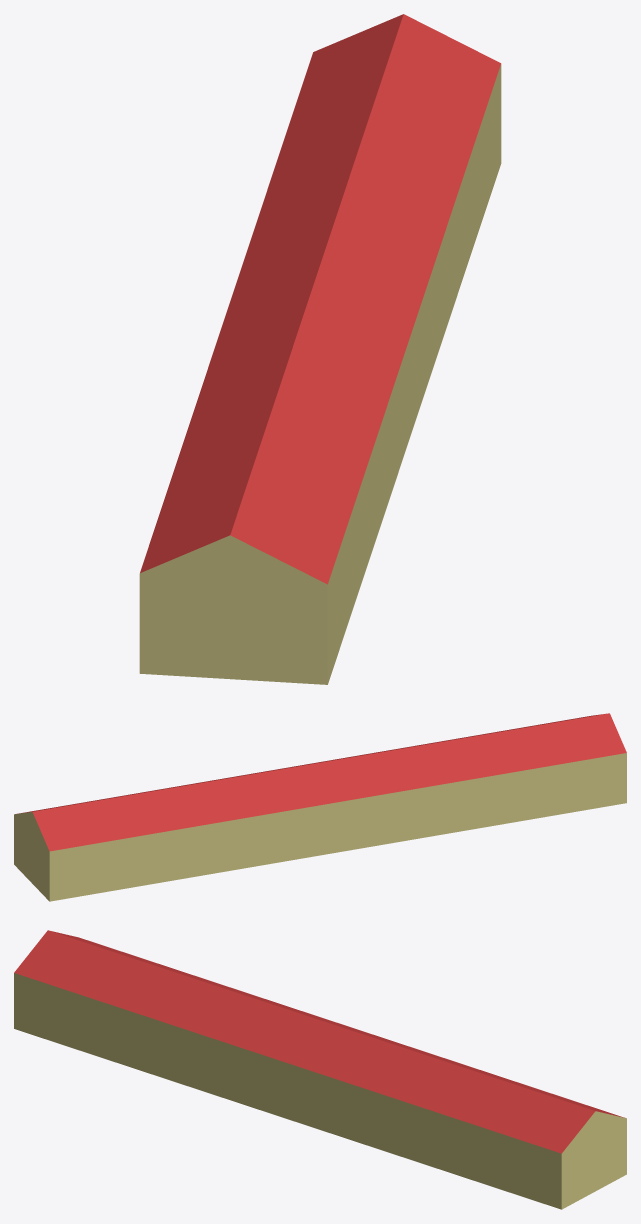
3 renders of one model, top to bottom at view 1: azimuth 30°, elevation 25°; view 2: azimuth 150°, elevation 25°; view 3: azimuth 270°, elevation 25°, orthographic. The views are drawn at different scales.
Bounding box in the file's own units: 36.78 × 44.08 × 6.37.
